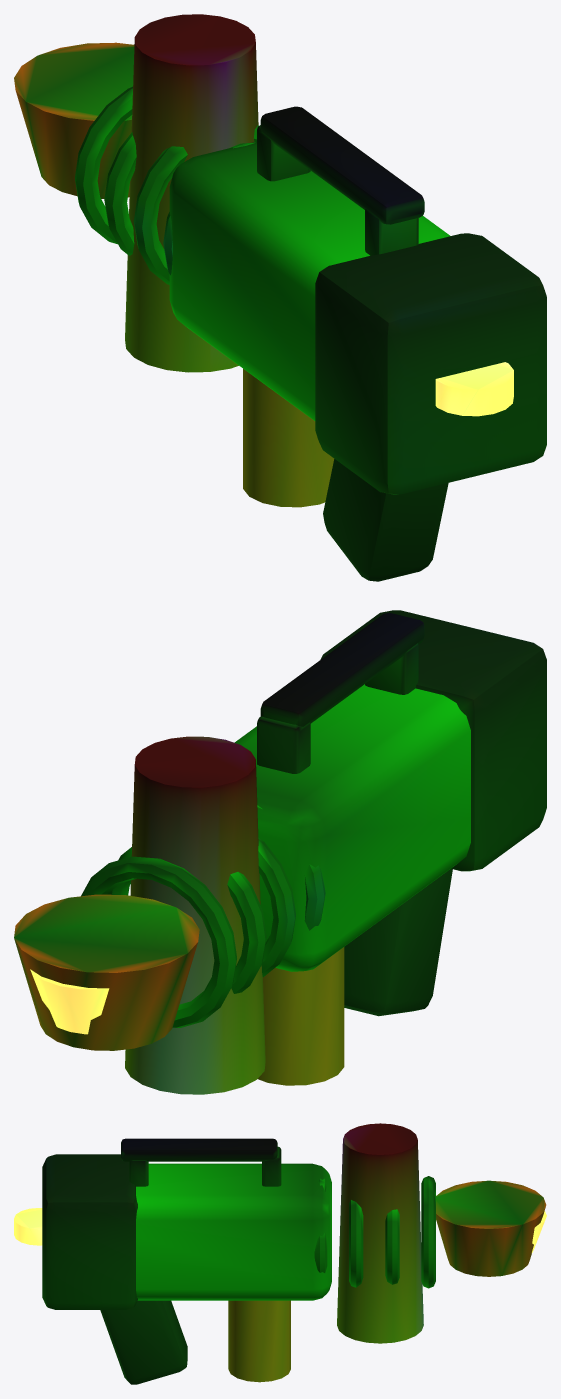
File: hero_heat_lance.glb
The picture shows the model from 3 angles, top to bottom: view 1: azimuth 30°, elevation 25°; view 2: azimuth 150°, elevation 25°; view 3: azimuth 270°, elevation 25°; orthographic projection. The views are drawn at different scales.
Parts seen in each view (by area): view 1: HeroHeatLance; view 2: HeroHeatLance; view 3: HeroHeatLance.
Boxes of the visible parts, x1,y1,x2,y2 form: HeroHeatLance: (14, 14, 546, 581); HeroHeatLance: (14, 610, 546, 1094); HeroHeatLance: (14, 1123, 546, 1384).
Size of the model in its own units: 0.2 by 0.436 by 0.883.
